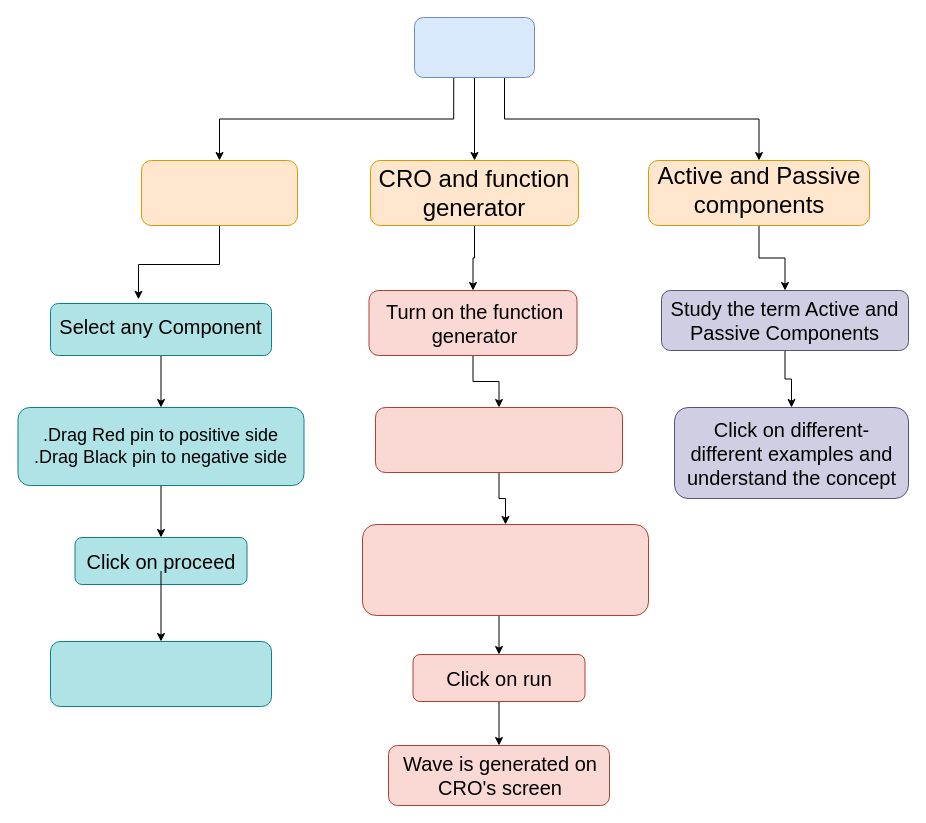
Some shapes in this 926 by 823 pixel diagram are drawn without their labels. Here are the shapes that lost their labels. From the top down, the centre of each, then its label:
point 474,47: Start
point 219,193: Multimeter
point 498,439: Slect the type of wave which you want to make
point 505,570: Set the appropriate value of amplitude and frequency using slider
point 161,673: Result is displayed on Multimeter screen
